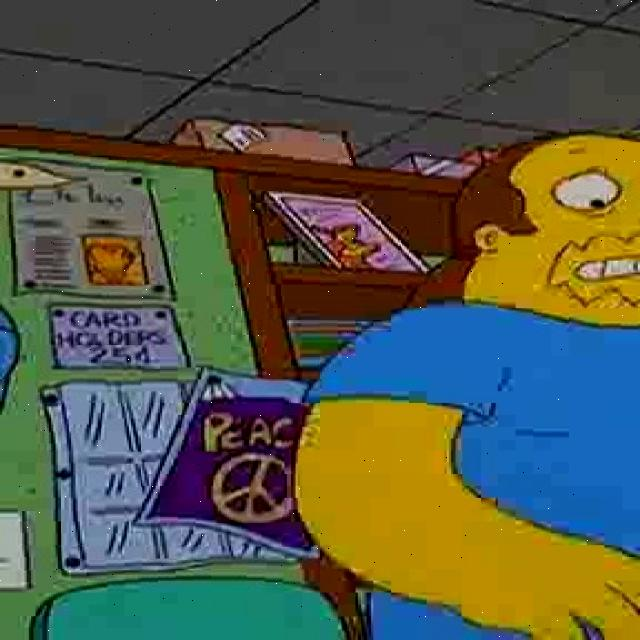Comic Book Guy: (438, 128, 640, 330)
